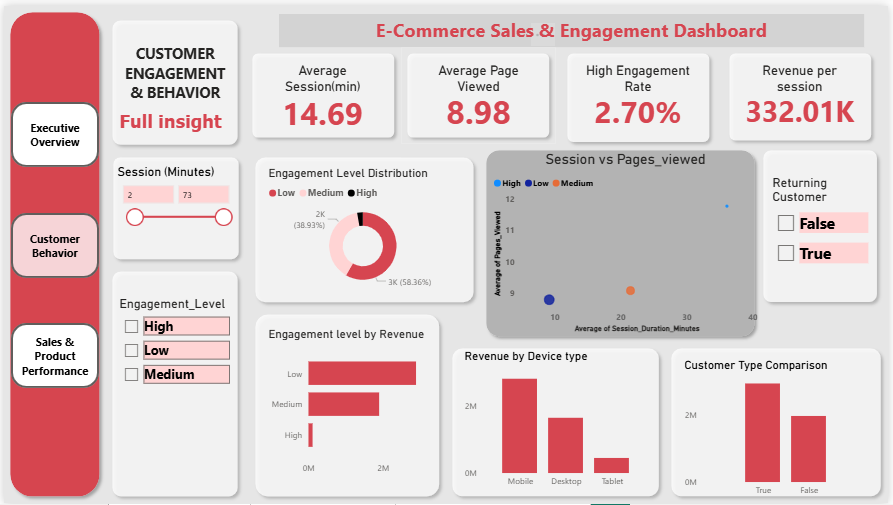

Layout of this report page (visuals, bound fields, positions):
{"tool":"powerbi","page":{"name":"Customer Behavior","canvas":[1280,720],"ordinal":1},"visuals":[{"type":"shape","box":[0,0,147.4,720],"z":0},{"type":"shape","box":[350.1,59.5,223.9,140.3],"z":1000},{"type":"shape","box":[575.4,59.5,223.9,140.3],"z":2000},{"type":"shape","box":[807.2,59,224,146.9],"z":3000},{"type":"shape","box":[1041.7,59.5,223.9,144.6],"z":4000},{"type":"shape","box":[147.4,11.3,199.8,198.4],"z":5000},{"type":"textbox","box":[162.3,49.5,171.6,97.4],"z":6000},{"type":"textbox","box":[147.4,144.6,187.1,65.2],"z":7000},{"type":"shape","box":[148.8,209.8,199.8,165.8],"z":8000},{"type":"shape","box":[147.4,375.6,199.8,344.4],"z":9000},{"type":"shape","box":[355.7,209.8,334.5,228.2],"z":10000},{"type":"shape","box":[355.7,438,284.9,282],"z":11000},{"type":"shape","box":[1091.3,199.8,182.8,238.1],"z":12000},{"type":"shape","box":[690.2,199.8,406.8,287.7],"z":13000},{"type":"shape","box":[640.6,487.6,317.5,232.4],"z":14000},{"type":"shape","box":[958.1,487.6,321.7,232.4],"z":15000},{"type":"card","title":"Average Session(min)","fields":{"Values":["Orders.Average Session Duration"]},"box":[365.7,82.2,192.8,99.2],"z":16000},{"type":"card","title":"Average Page Viewed","fields":{"Values":["Orders.Average Page viewed"]},"box":[591,82.2,192.8,95],"z":17000},{"type":"card","title":"High Engagement Rate","fields":{"Values":["Orders.High Engagement Rate"]},"box":[824.9,82.2,188.5,95],"z":18000},{"type":"card","title":"Revenue per session","fields":{"Values":["Orders.Revenue per Session"]},"box":[1061.6,82.2,184.3,95],"z":19000},{"type":"donutChart","title":"Engagement Level Distribution","fields":{"Category":["Orders.Engagement_Level"],"Y":["Orders.Total Orders"]},"box":[378.4,232.4,283.5,184.3],"z":20000},{"type":"barChart","title":"Engagement level by Revenue","fields":{"Y":["Orders.Total Revenue"],"Category":["Orders.Engagement_Level"]},"box":[378.4,464.9,239.5,222.5],"z":21000},{"type":"scatterChart","title":"Session vs Pages_viewed","fields":{"X":["Avg(Orders.Session_Duration_Minutes)"],"Y":["Orders.Pages_Viewed"],"Size":["Sum(Orders.Total_Amount)"],"Series":["Orders.Engagement_Level"]},"box":[704.4,209.8,392.6,267.9],"z":22000},{"type":"slicer","title":"Returning Customer","fields":{"Values":["Customers.Is_Returning_Customer"]},"box":[1108.3,245.2,148.8,147.4],"z":23000},{"type":"slicer","title":"Session (Minutes)","fields":{"Values":["Orders.Session_Duration_Minutes"]},"box":[158.7,229.6,180,127.6],"z":24000},{"type":"slicer","title":"Engagement_Level","fields":{"Values":["Orders.Engagement_Level"]},"box":[163,420.9,170.1,171.5],"z":25000},{"type":"textbox","box":[398.3,11.3,847.6,48.2],"z":26000},{"type":"columnChart","title":"Revenue by Device type","fields":{"Y":["Orders.Total Revenue"],"Category":["Orders.Device_Type"]},"box":[661.9,497.5,277.8,209.8],"z":27000},{"type":"columnChart","title":"Customer Type Comparison","fields":{"Category":["Customers.Is_Returning_Customer"],"Y":["Orders.Total Revenue"]},"box":[980.8,510.2,277.8,209.8],"z":28000},{"type":"actionButton","box":[10.1,459.4,127.5,94.2],"z":28001},{"type":"actionButton","box":[10.1,300,127.5,94.2],"z":28002},{"type":"actionButton","box":[10.1,139.1,127.5,94.2],"z":28003}]}

Visuals, with their boxes in screenshot pixels (x1, y1, x2, y2), scaled from the page's 1280x720 canvas onto the 893x505 screenshot:
shape: pyautogui.locateOnScreen(0, 0, 103, 504)
shape: pyautogui.locateOnScreen(244, 42, 400, 140)
shape: pyautogui.locateOnScreen(401, 42, 558, 140)
shape: pyautogui.locateOnScreen(563, 41, 719, 144)
shape: pyautogui.locateOnScreen(727, 42, 883, 143)
shape: pyautogui.locateOnScreen(103, 8, 242, 147)
textbox: pyautogui.locateOnScreen(113, 35, 233, 103)
textbox: pyautogui.locateOnScreen(103, 101, 233, 147)
shape: pyautogui.locateOnScreen(104, 147, 243, 263)
shape: pyautogui.locateOnScreen(103, 263, 242, 504)
shape: pyautogui.locateOnScreen(248, 147, 482, 307)
shape: pyautogui.locateOnScreen(248, 307, 447, 504)
shape: pyautogui.locateOnScreen(761, 140, 889, 307)
shape: pyautogui.locateOnScreen(482, 140, 765, 342)
shape: pyautogui.locateOnScreen(447, 342, 668, 504)
shape: pyautogui.locateOnScreen(668, 342, 892, 504)
"Average Session(min)" card: pyautogui.locateOnScreen(255, 58, 390, 127)
"Average Page Viewed" card: pyautogui.locateOnScreen(412, 58, 547, 124)
"High Engagement Rate" card: pyautogui.locateOnScreen(575, 58, 707, 124)
"Revenue per session" card: pyautogui.locateOnScreen(741, 58, 869, 124)
"Engagement Level Distribution" donutChart: pyautogui.locateOnScreen(264, 163, 462, 292)
"Engagement level by Revenue" barChart: pyautogui.locateOnScreen(264, 326, 431, 482)
"Session vs Pages_viewed" scatterChart: pyautogui.locateOnScreen(491, 147, 765, 335)
"Returning Customer" slicer: pyautogui.locateOnScreen(773, 172, 877, 275)
"Session (Minutes)" slicer: pyautogui.locateOnScreen(111, 161, 236, 251)
"Engagement_Level" slicer: pyautogui.locateOnScreen(114, 295, 232, 416)
textbox: pyautogui.locateOnScreen(278, 8, 869, 42)
"Revenue by Device type" columnChart: pyautogui.locateOnScreen(462, 349, 656, 496)
"Customer Type Comparison" columnChart: pyautogui.locateOnScreen(684, 358, 878, 504)
actionButton: pyautogui.locateOnScreen(7, 322, 96, 388)
actionButton: pyautogui.locateOnScreen(7, 210, 96, 276)
actionButton: pyautogui.locateOnScreen(7, 98, 96, 164)
